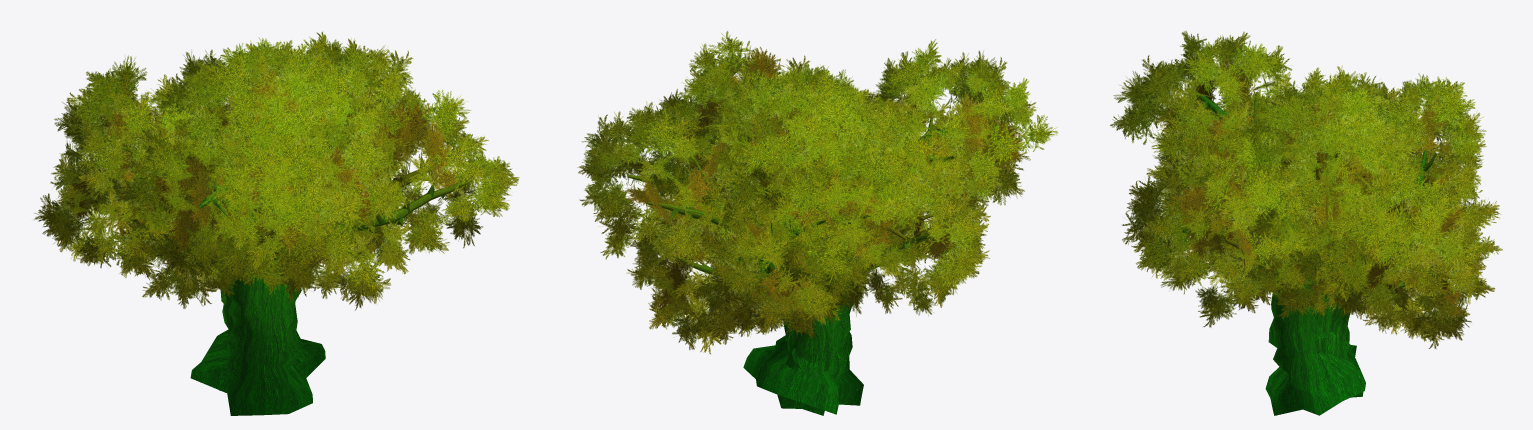
The model's file is oliva.glb.
3 renders of one model, left to right at view 1: azimuth 30°, elevation 25°; view 2: azimuth 150°, elevation 25°; view 3: azimuth 270°, elevation 25°, orthographic. The views are drawn at different scales.
Visible parts, largest first — view 1: oliva_03_LOD0, oliva_01_LOD0, oliva_02_LOD0; view 2: oliva_03_LOD0, oliva_01_LOD0, oliva_02_LOD0; view 3: oliva_03_LOD0, oliva_01_LOD0, oliva_02_LOD0.
Boxes of the visible parts, <box> form: oliva_03_LOD0: <box>34,31,519,415</box>; oliva_01_LOD0: <box>54,40,413,390</box>; oliva_02_LOD0: <box>168,37,407,302</box>; oliva_03_LOD0: <box>577,31,1058,414</box>; oliva_01_LOD0: <box>626,63,1001,415</box>; oliva_02_LOD0: <box>688,64,933,341</box>; oliva_03_LOD0: <box>1110,31,1502,415</box>; oliva_01_LOD0: <box>1146,65,1494,397</box>; oliva_02_LOD0: <box>1205,80,1432,354</box>.
Size of what is drawn, in the model's own units: 8.47 by 6.91 by 7.79.
2 materials, 2 textured.
